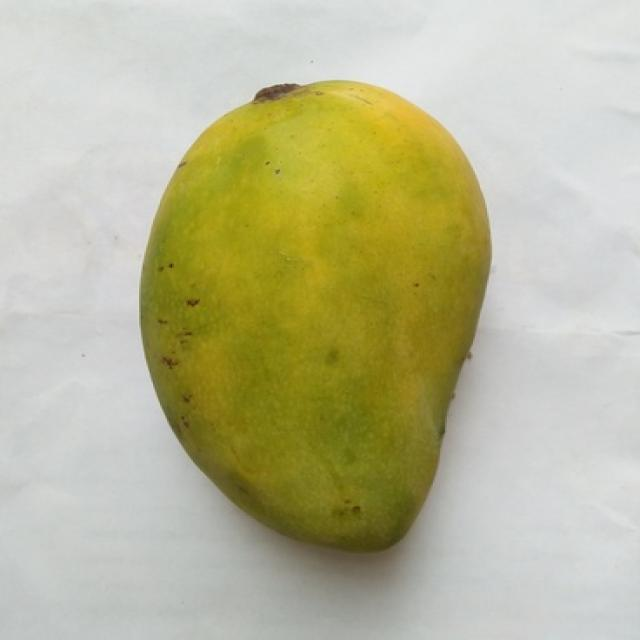Mango: (141, 81, 489, 550)
